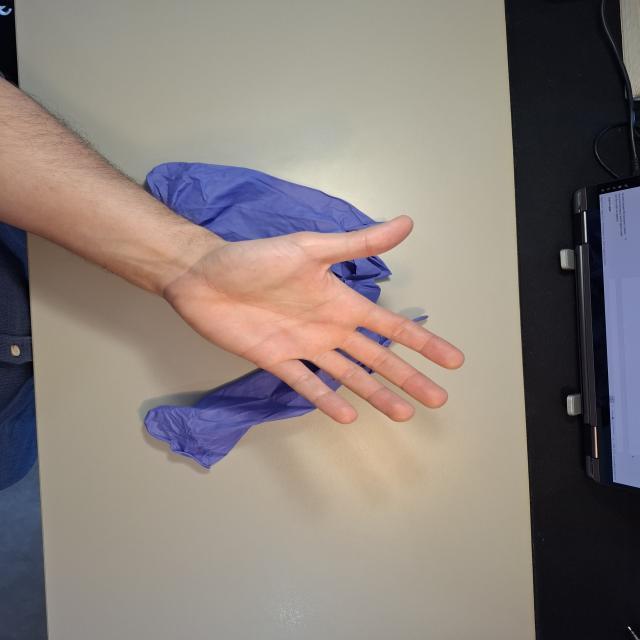glove_off: (157, 212, 468, 427)
